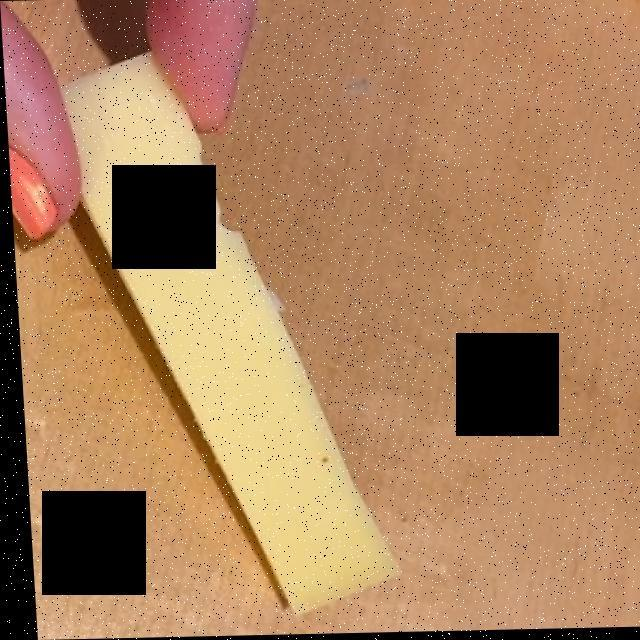gruyere: (80, 59, 371, 604)
